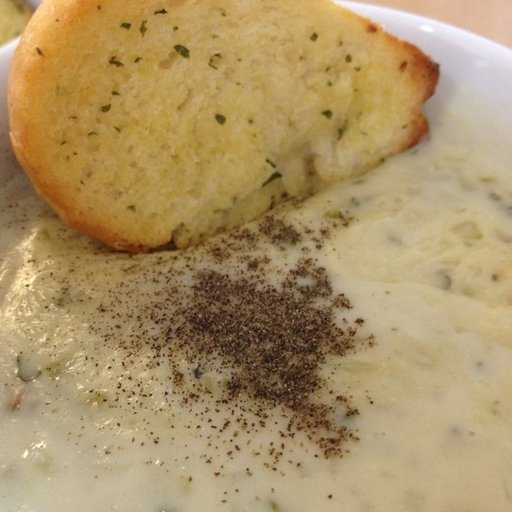soup: (3, 153, 509, 509)
